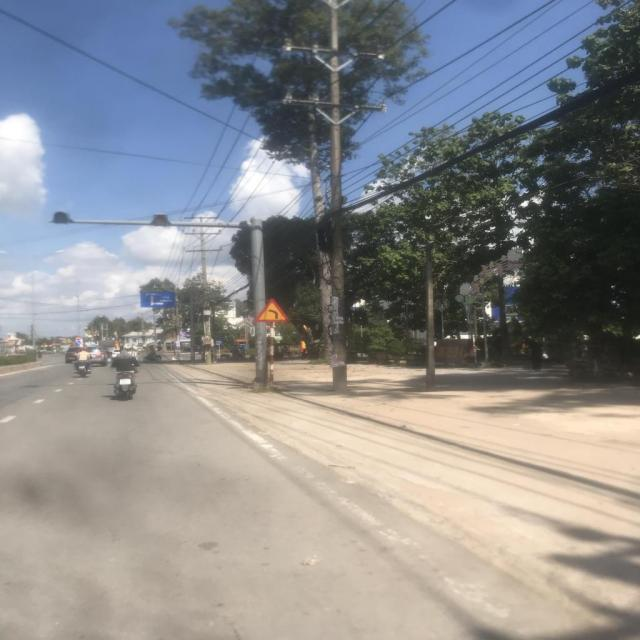cam_xe_di_nguoc_chieu: (75, 336, 82, 341)
cho_ngoat_nguy_hiem_ben_trai: (254, 298, 291, 323)
huong_phai_di_vuot_chuong_ngai_vat_phai: (76, 341, 82, 345)
khac: (140, 291, 175, 309)
